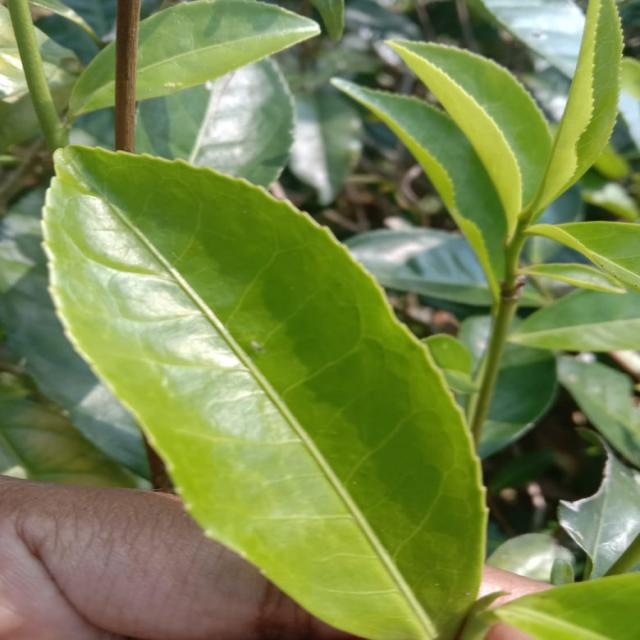Category B 2-4 days: (34, 136, 506, 640)
